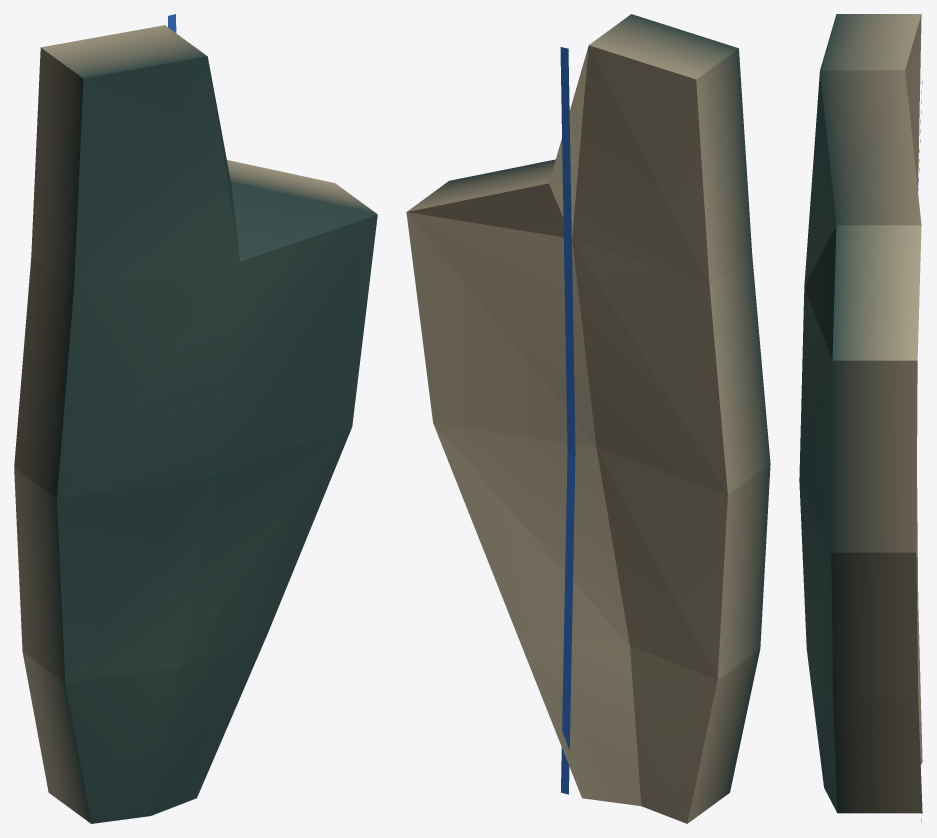
Rendered from impeller_vane_chipped.glb.
3 renders of one model, left to right at view 1: azimuth 30°, elevation 25°; view 2: azimuth 150°, elevation 25°; view 3: azimuth 270°, elevation 25°, orthographic.
Visible parts, largest first — view 1: VaneChipped; view 2: VaneChipped; view 3: VaneChipped.
Part boxes in pixels (x1=…): VaneChipped: x1=14, y1=14, x2=377, y2=823; VaneChipped: x1=406, y1=14, x2=770, y2=823; VaneChipped: x1=799, y1=14, x2=922, y2=822.
Size of the model in its own units: 3.6 by 8 by 1.2.
